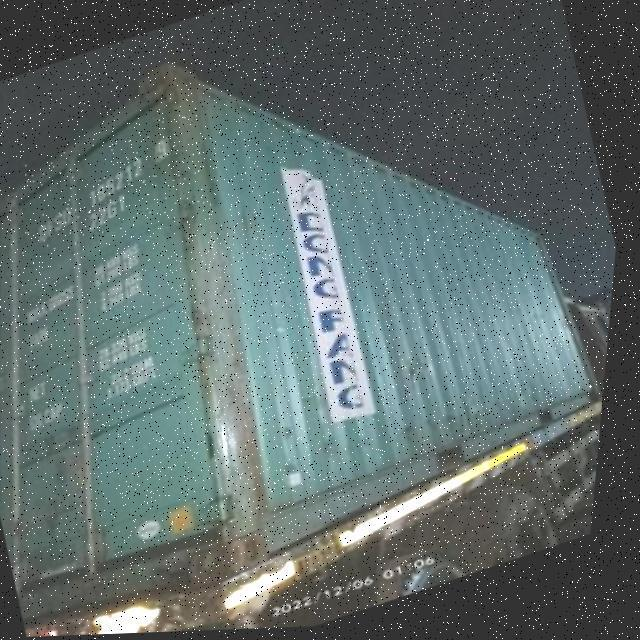container_number_h: (0, 108, 228, 271)
